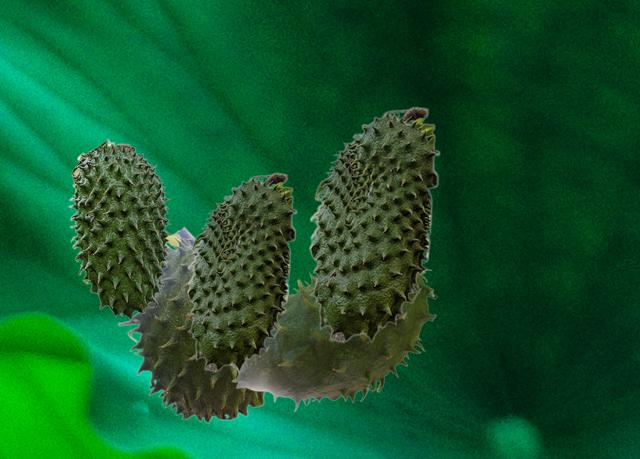guyabano: (117, 226, 289, 423), (308, 106, 439, 342), (231, 268, 436, 411), (186, 172, 296, 371), (68, 138, 171, 319)
